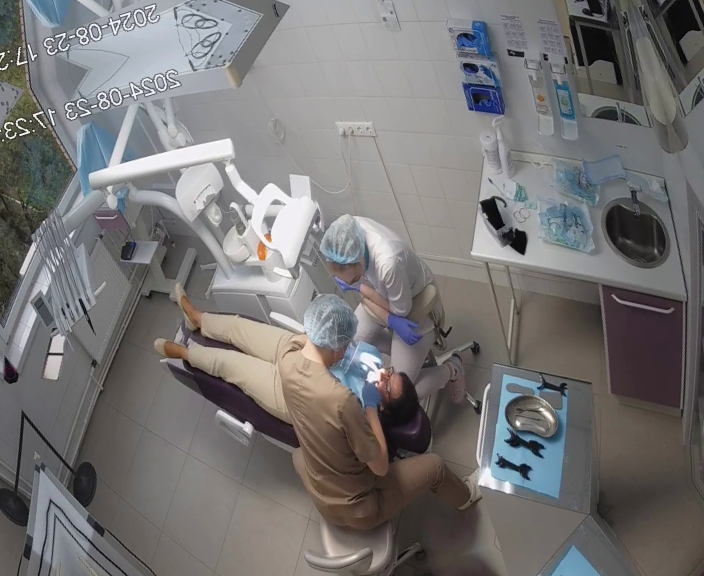Patient: (137, 221, 437, 523)
